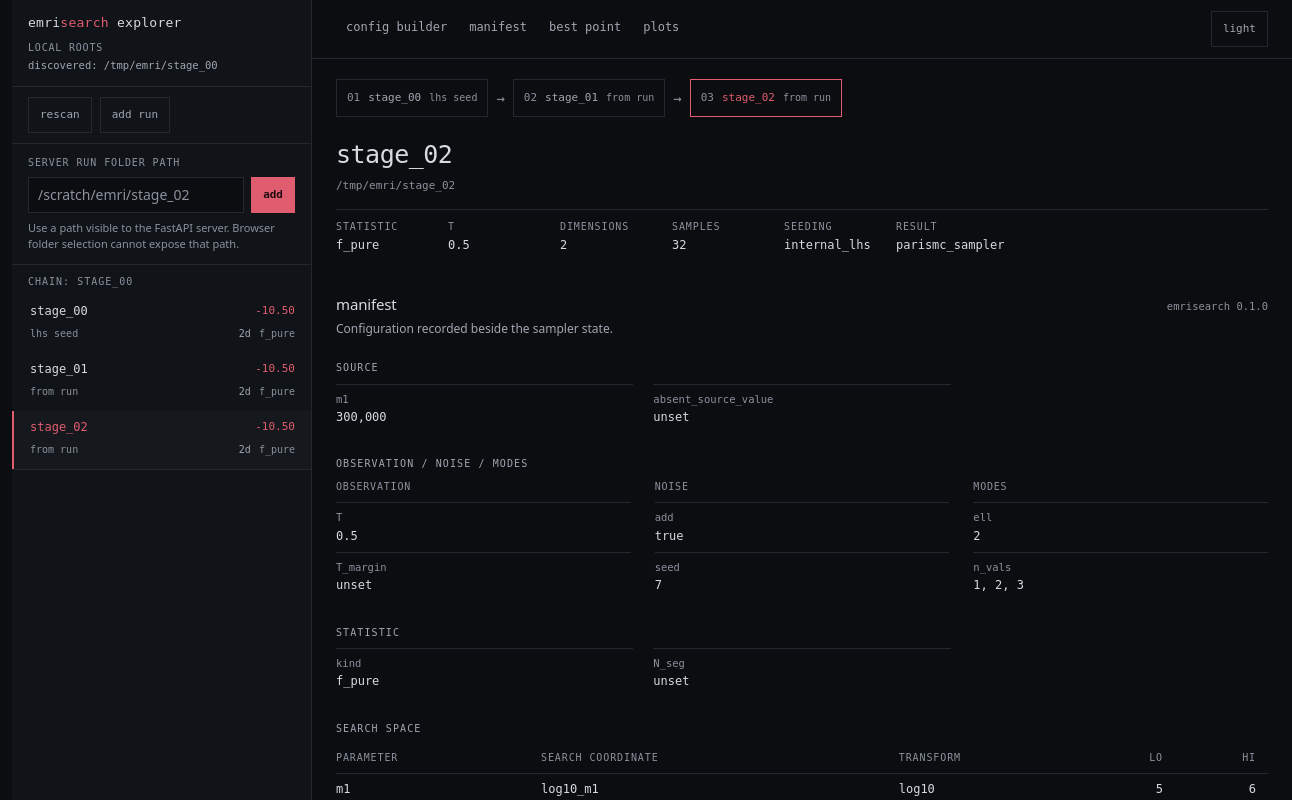
detail, diagnostics, plots, and theme controls › navigates from the lineage strip to another real run
This screenshot has width=1292, height=800.
Expected: the heading "stage_02" is shown, [336,140,452,169]
Step 1. Click the button "02 stage_01 from run" → (589, 98), box [513,79,665,117]
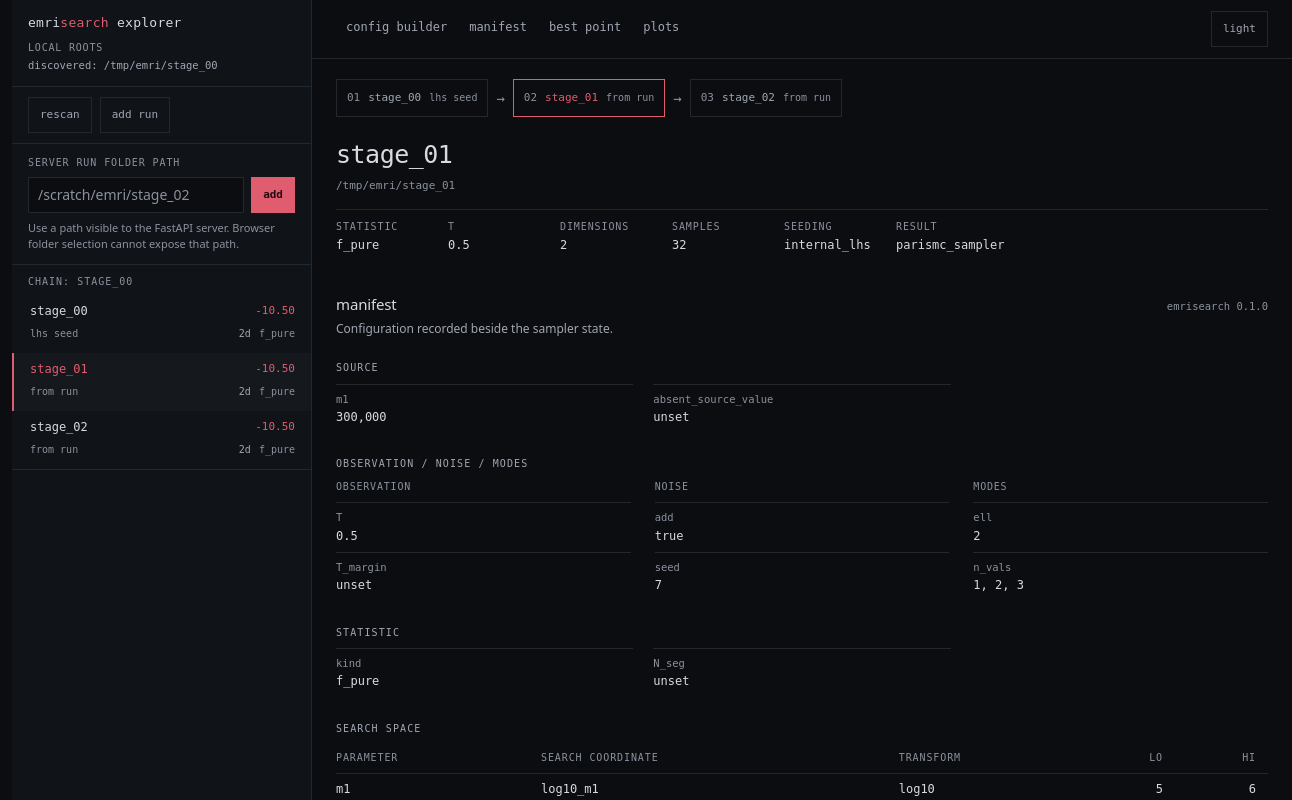
Expected: the heading "stage_01" is shown, [336,140,452,169]
